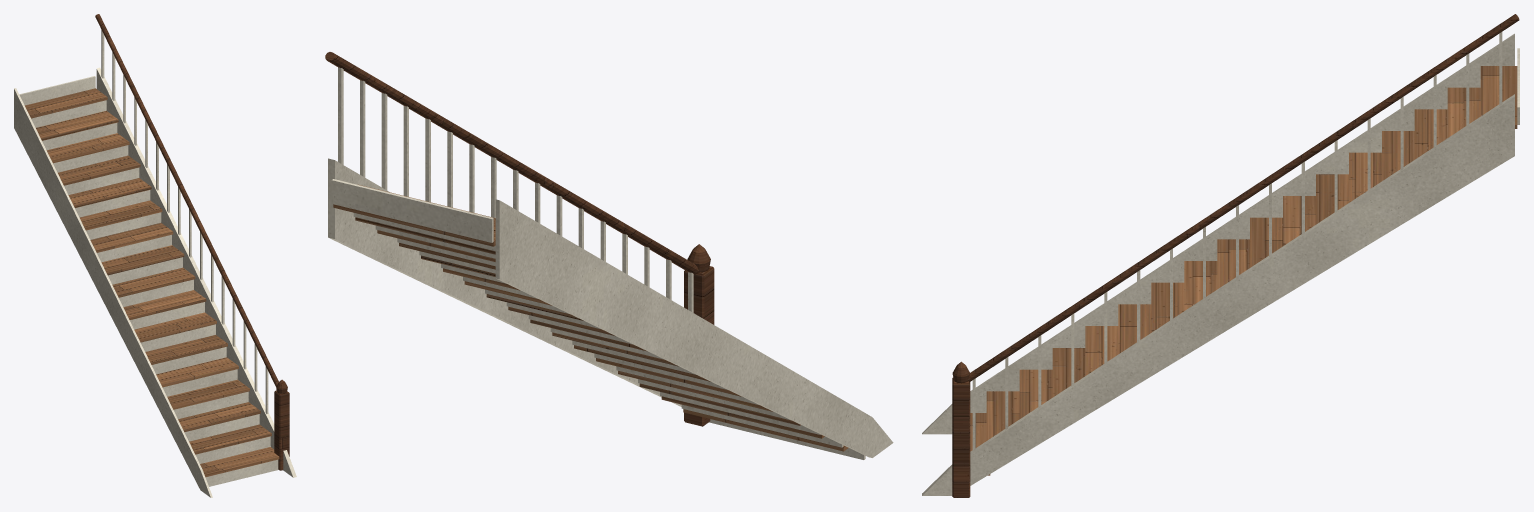
The model's file is stair.glb.
The picture shows the model from 3 angles, left to right: view 1: azimuth 30°, elevation 25°; view 2: azimuth 150°, elevation 25°; view 3: azimuth 270°, elevation 25°; orthographic projection. The views are drawn at different scales.
Visible parts, largest first — view 1: stair_trim, stair_floor, stair_wood; view 2: stair_trim, stair_floor, stair_wood; view 3: stair_trim, stair_floor, stair_wood.
Part boxes in pixels (x1,y1,x2,y2): stair_trim: (14, 30, 296, 497); stair_floor: (25, 88, 279, 477); stair_wood: (95, 14, 289, 470); stair_trim: (328, 67, 893, 459); stair_floor: (333, 184, 848, 451); stair_wood: (325, 52, 714, 426); stair_trim: (922, 32, 1519, 495); stair_floor: (970, 66, 1517, 475); stair_wood: (952, 14, 1519, 497).
Size of the model in its own units: 1.23 by 4.18 by 4.72.
Materials: 3 (3 with a texture image).
